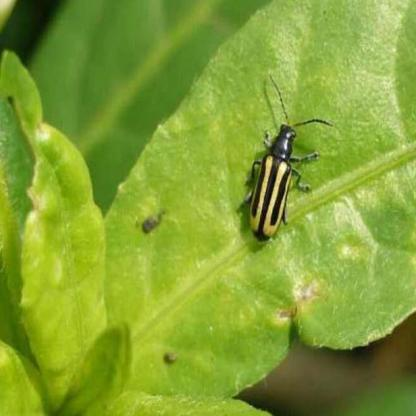beetle: (245, 78, 328, 244)
